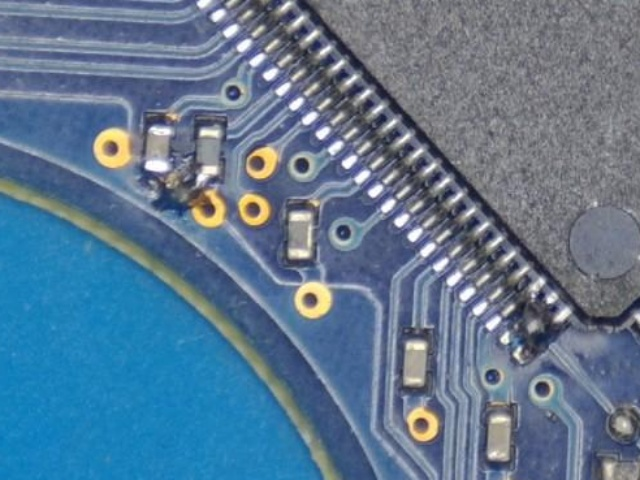pcb_defect: (485, 275, 573, 364), (145, 152, 217, 187)
